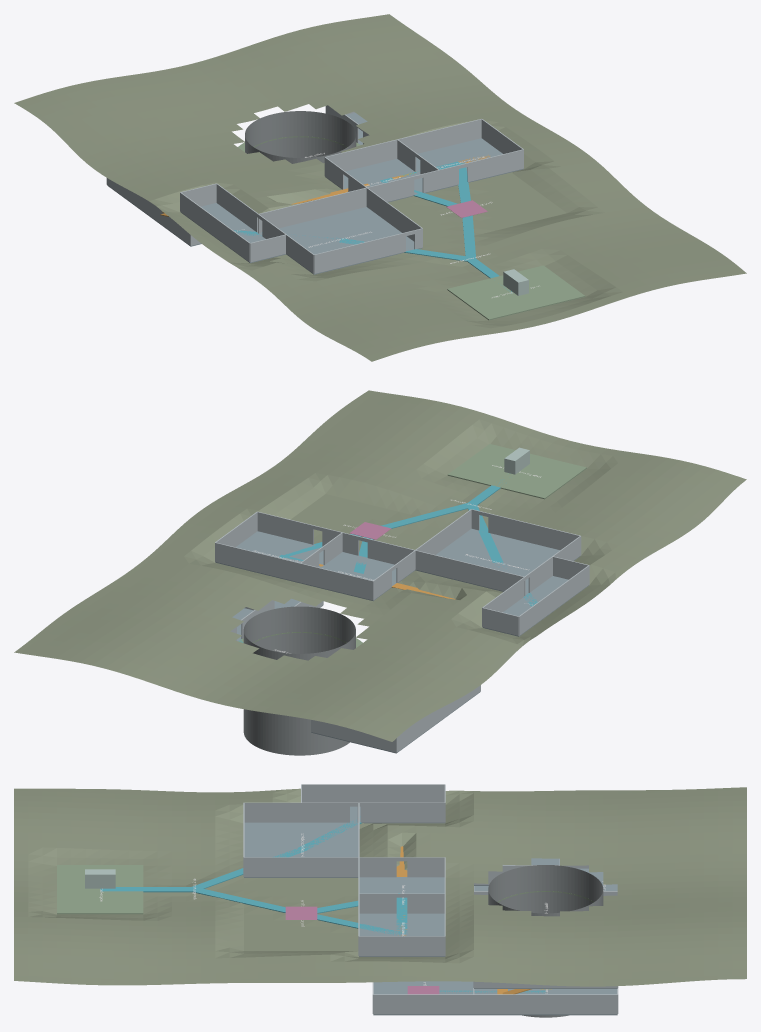
Rendered from rough-shell.glb.
3 views of the same model, one above another, from view 1: azimuth 30°, elevation 25°; view 2: azimuth 150°, elevation 25°; view 3: azimuth 270°, elevation 25° (orthographic). The views are drawn at different scales.
Visible parts, largest first — view 1: Authored silo terrain, EMPTY SHAFT / guard engineering pending, Floor stage, Floor servicehouse, Wall servicehouse N, Wall servicehouse S, Floor shop, Wall shop N, Wall exit W, Wall head N, Wall shop S.001, Floor head (+7 smaller); view 2: Authored silo terrain, EMPTY SHAFT / guard engineering pending, Floor stage, Floor servicehouse, Wall servicehouse N, Wall shop N, Wall servicehouse S, Floor shop, Wall head N, Wall exit W, Wall shop S.001, Wall pump N (+9 smaller); view 3: Authored silo terrain, EMPTY SHAFT / guard engineering pending, Floor servicehouse, Floor stage, Wall east E, Wall exit W, Wall servicehouse E, Wall servicehouse W.001, Wall plant E, Floor shop, Wall shop E, Wall exit E (+17 smaller).
Part boxes in pixels (x1=…): Authored silo terrain: x1=14, y1=14, x2=746, y2=361; EMPTY SHAFT / guard engineering pending: x1=245, y1=111, x2=356, y2=163; Floor stage: x1=447, y1=265, x2=585, y2=320; Floor servicehouse: x1=259, y1=207, x2=422, y2=274; Wall servicehouse N: x1=258, y1=187, x2=366, y2=232; Wall servicehouse S: x1=314, y1=232, x2=405, y2=273; Floor shop: x1=416, y1=138, x2=523, y2=189; Wall shop N: x1=398, y1=119, x2=481, y2=153; Wall exit W: x1=180, y1=192, x2=249, y2=262; Wall head N: x1=325, y1=139, x2=397, y2=171; Wall shop S.001: x1=467, y1=149, x2=523, y2=181; Floor head: x1=325, y1=159, x2=414, y2=189; Authored silo terrain: x1=14, y1=390, x2=746, y2=741; EMPTY SHAFT / guard engineering pending: x1=243, y1=606, x2=355, y2=755; Floor stage: x1=447, y1=444, x2=586, y2=499; Floor servicehouse: x1=415, y1=528, x2=580, y2=594; Wall servicehouse N: x1=415, y1=550, x2=524, y2=595; Wall shop N: x1=215, y1=542, x2=300, y2=582; Wall servicehouse S: x1=488, y1=513, x2=580, y2=550; Floor shop: x1=215, y1=531, x2=323, y2=583; Wall head N: x1=300, y1=563, x2=373, y2=600; Wall exit W: x1=519, y1=565, x2=589, y2=635; Wall shop S.001: x1=257, y1=511, x2=313, y2=544; Wall pump N: x1=311, y1=720, x2=396, y2=752; Authored silo terrain: x1=14, y1=787, x2=746, y2=986; EMPTY SHAFT / guard engineering pending: x1=488, y1=865, x2=603, y2=1017; Floor servicehouse: x1=244, y1=822, x2=358, y2=877; Floor stage: x1=57, y1=865, x2=143, y2=914; Wall east E: x1=474, y1=994, x2=617, y2=1014; Wall exit W: x1=301, y1=784, x2=444, y2=802; Wall servicehouse E: x1=244, y1=857, x2=358, y2=877; Wall servicehouse W.001: x1=244, y1=802, x2=346, y2=822; Wall plant E: x1=373, y1=994, x2=473, y2=1014; Floor shop: x1=359, y1=913, x2=445, y2=956; Wall shop E: x1=359, y1=936, x2=445, y2=956; Wall exit E: x1=360, y1=802, x2=445, y2=822.
Size of the model in its own units: 63.8 by 19 by 102.
